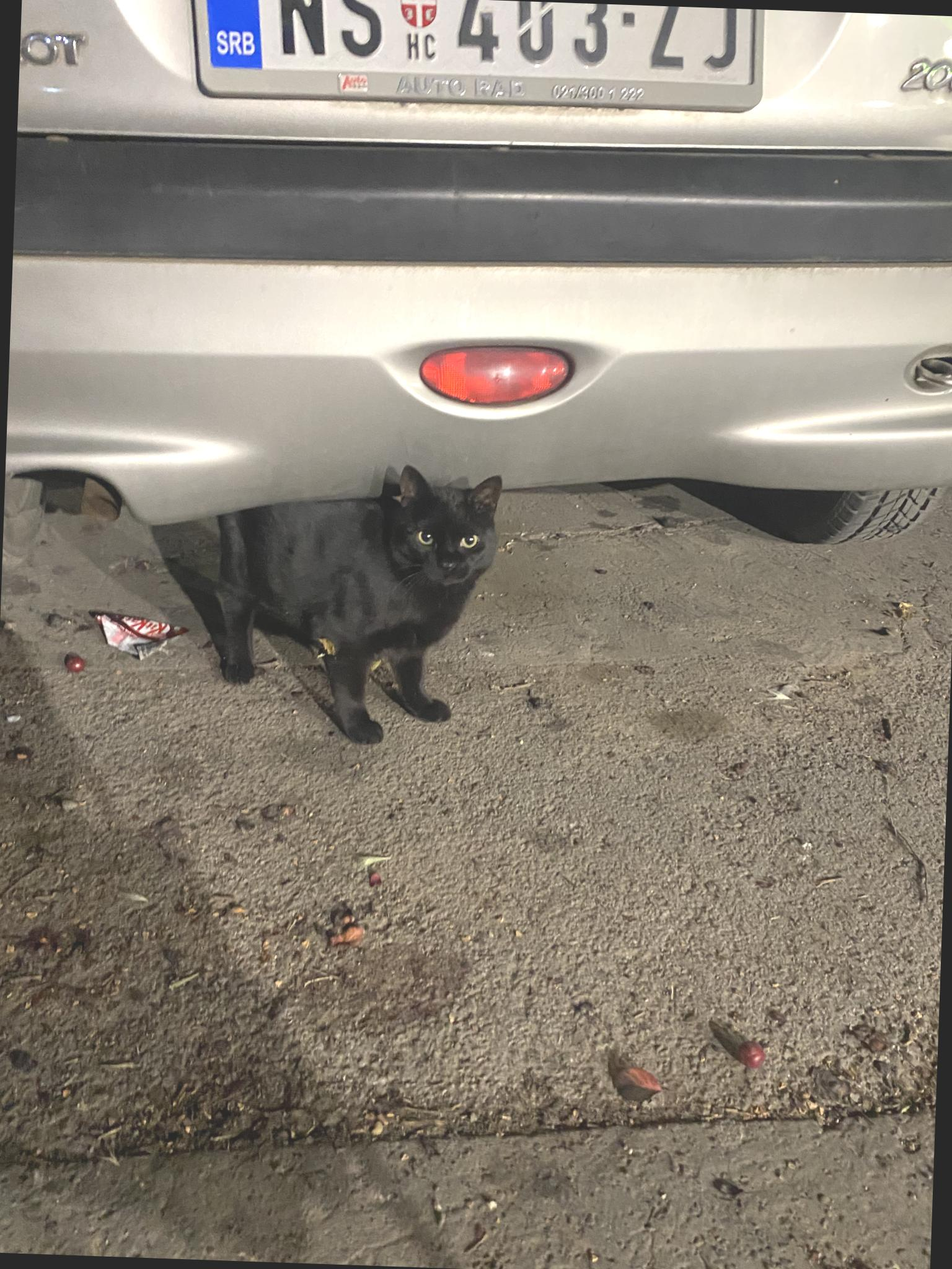macka: (212, 457, 506, 746)
